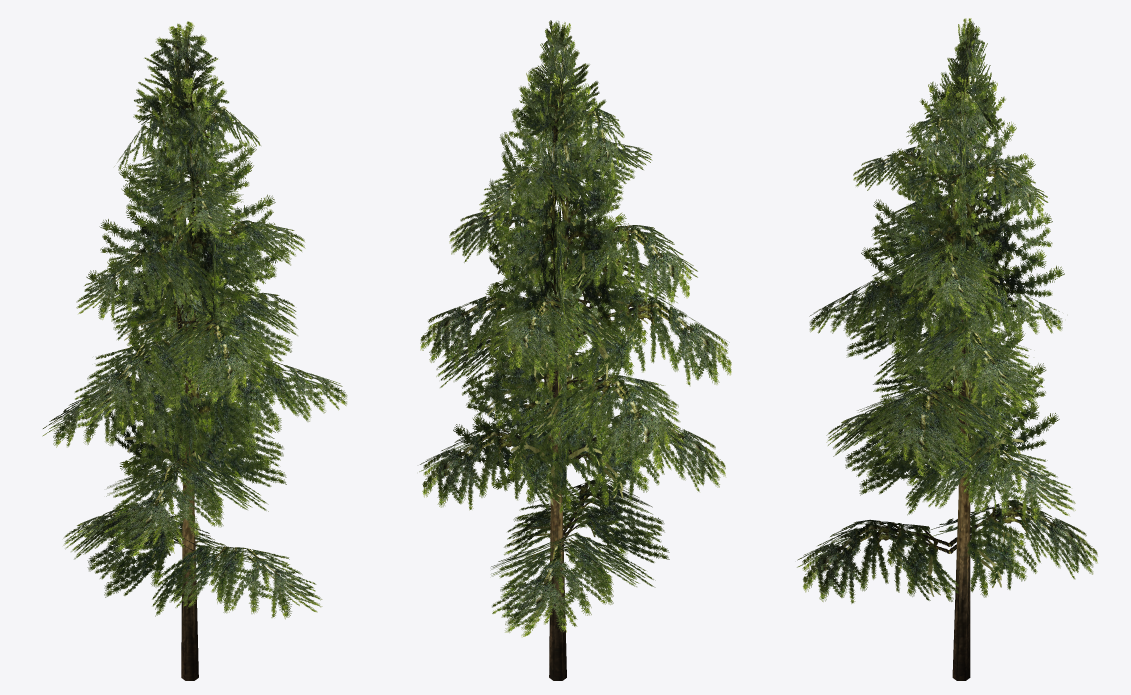
Rendered from cedar_atlas_young_3.glb.
3 views of the same model, side by side, from view 1: azimuth 30°, elevation 25°; view 2: azimuth 150°, elevation 25°; view 3: azimuth 270°, elevation 25° (orthographic).
Parts seen in each view (by area): view 1: cedar_atlas_young_3; view 2: cedar_atlas_young_3; view 3: cedar_atlas_young_3.
Part boxes in pixels (x1,y1,x2,y2): cedar_atlas_young_3: (42, 21, 347, 680); cedar_atlas_young_3: (419, 20, 731, 680); cedar_atlas_young_3: (797, 18, 1097, 680).
Size of the model in its own units: 10.03 by 20.45 by 9.8.
1 material, 1 textured.
